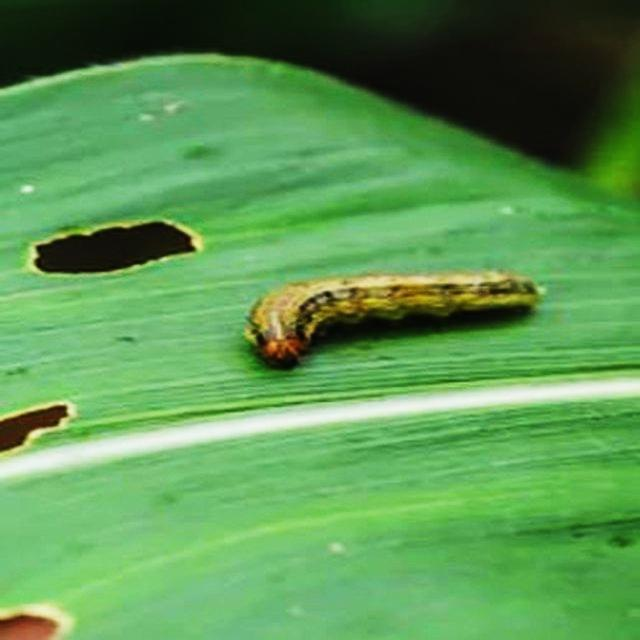Plaga: (240, 266, 547, 370)
